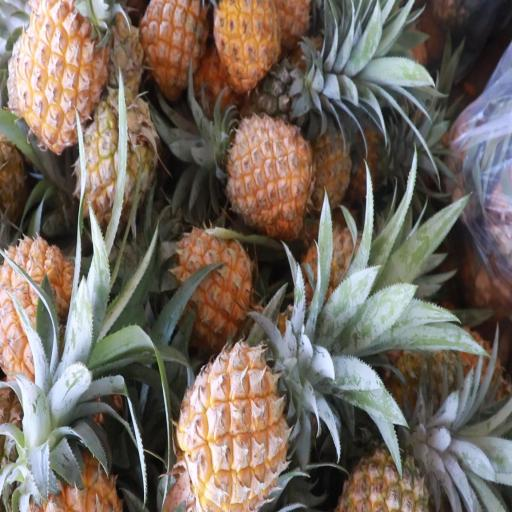------------------------------: (78, 92, 155, 229), (334, 427, 430, 512)
Pineapple - v8 v1: (176, 333, 290, 512), (0, 237, 82, 403), (11, 3, 102, 146), (226, 118, 312, 230), (172, 224, 254, 336), (137, 0, 205, 95), (212, 0, 282, 91)
